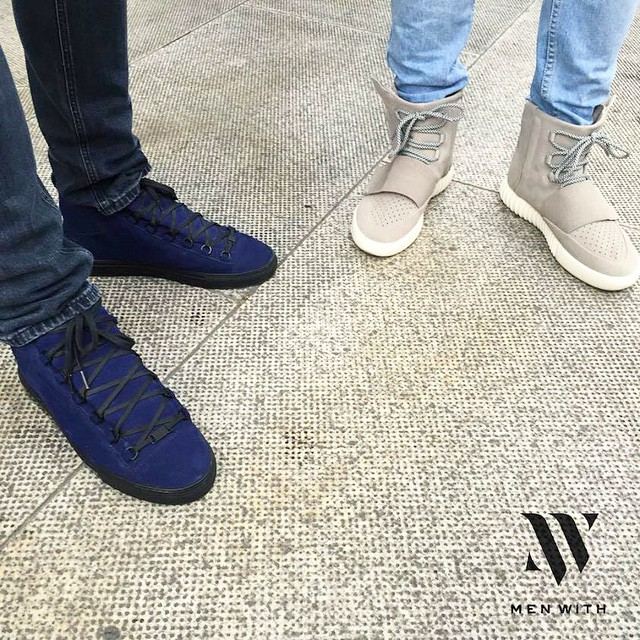sneaker: (1, 269, 236, 528), (41, 153, 291, 309), (487, 79, 640, 310), (332, 69, 481, 283)
